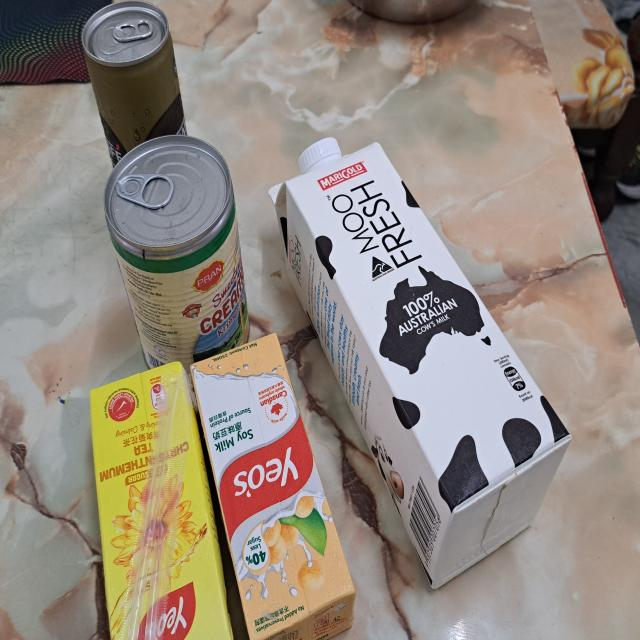can: (105, 134, 251, 370), (80, 0, 189, 172)
drink carton: (270, 142, 572, 592), (189, 332, 355, 640), (89, 360, 236, 640)
plastic bottle cap: (298, 137, 342, 175)
pop tab: (116, 173, 174, 210), (113, 18, 153, 42)
